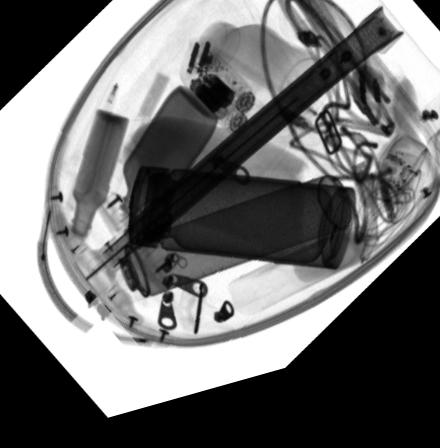Sprayer: (83, 193, 351, 318)
